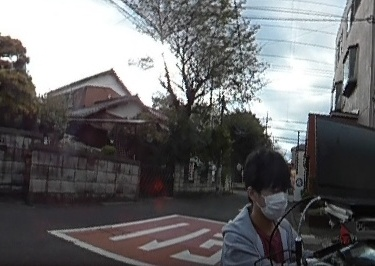person: (211, 153, 319, 266)
